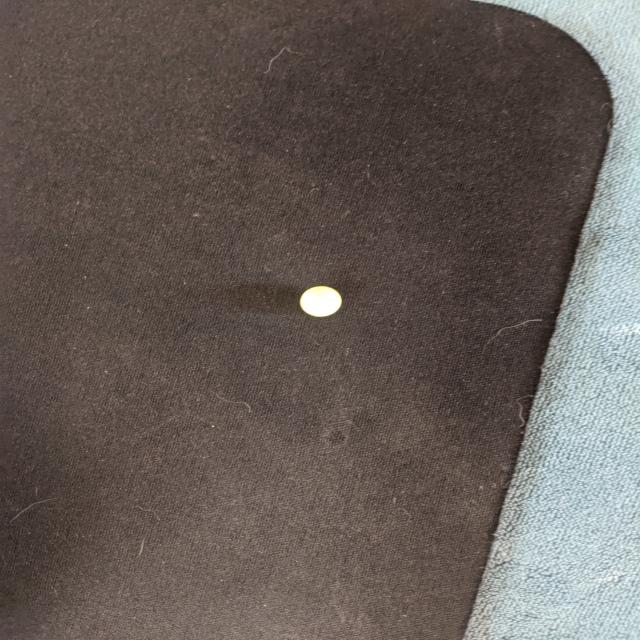non-organic waste: (299, 286, 343, 318)
